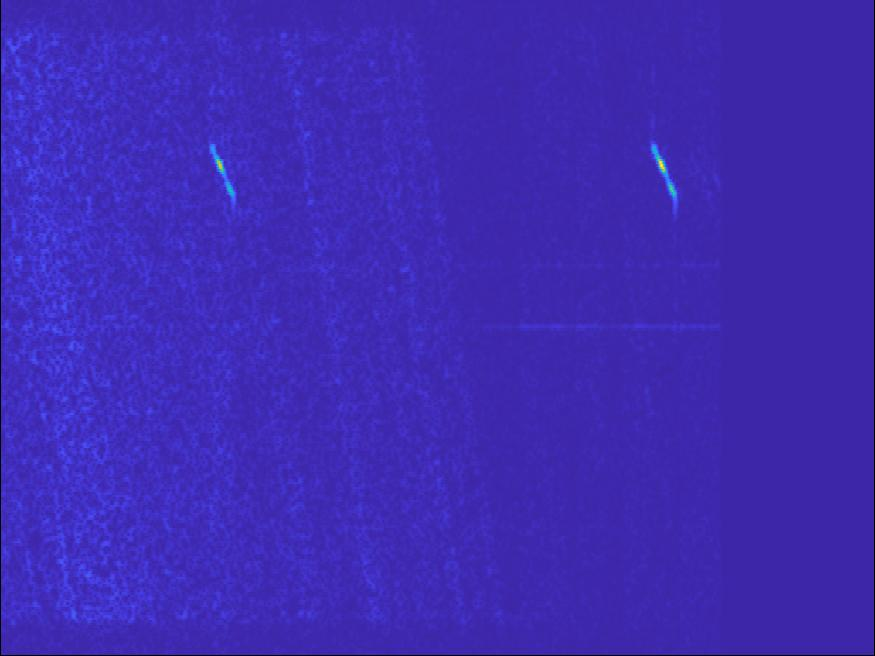Interference: (345, 83, 555, 256), (1, 289, 242, 373), (397, 578, 505, 620), (502, 292, 571, 353), (498, 6, 573, 47)
